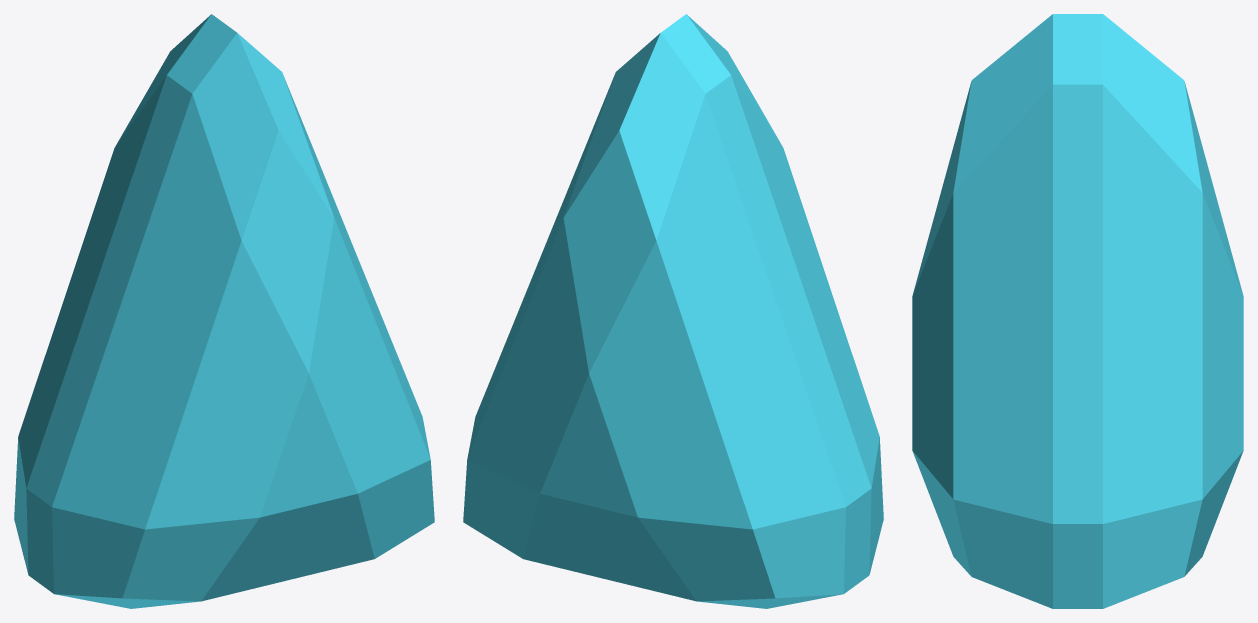
File: Jem_24.fbx
3 views of the same model, side by side, from view 1: azimuth 30°, elevation 25°; view 2: azimuth 150°, elevation 25°; view 3: azimuth 270°, elevation 25° (orthographic).
Parts seen in each view (by area): view 1: Jem_24; view 2: Jem_24; view 3: Jem_24.
Part boxes in pixels (left/top/right/bottom): Jem_24: left=14, top=14, right=434, bottom=608; Jem_24: left=463, top=14, right=883, bottom=608; Jem_24: left=912, top=14, right=1243, bottom=608.
Bounding box in the file's own units: 72.46 × 103 × 57.2.
